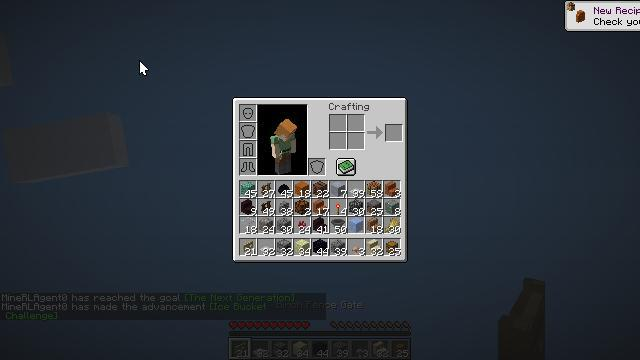cursor: (139, 60, 149, 76)
